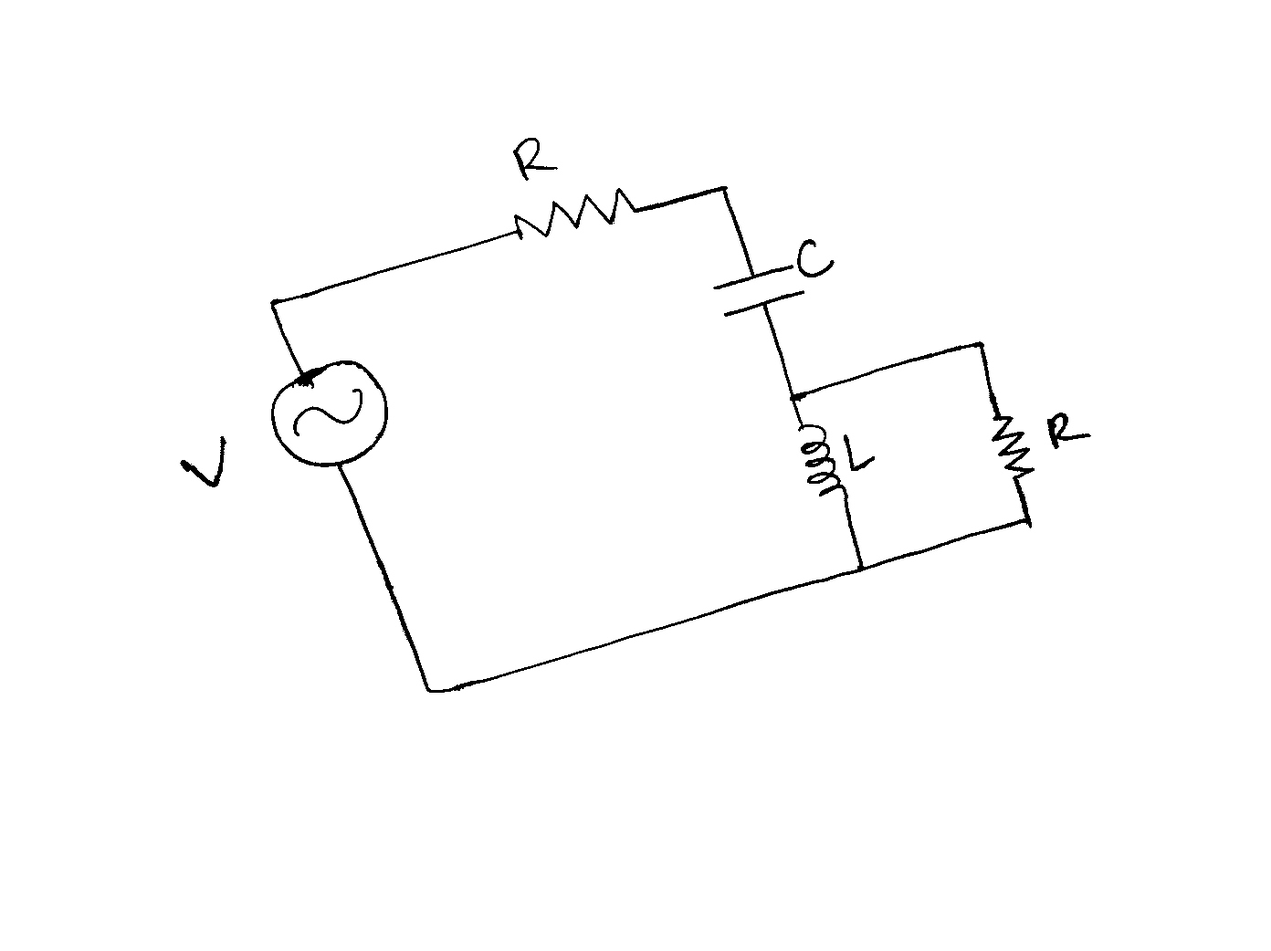capacitor.unpolarized: (710, 261, 808, 319)
inductor: (796, 423, 849, 499)
junction: (1016, 512, 1039, 529), (850, 560, 873, 577), (785, 388, 808, 404), (422, 680, 443, 697), (266, 294, 284, 313), (714, 183, 733, 198), (972, 339, 988, 351)
resistor: (506, 185, 646, 243), (989, 413, 1037, 483)
text: (178, 433, 229, 490), (512, 135, 562, 183), (1045, 411, 1094, 451), (795, 236, 835, 280), (842, 433, 878, 472)
voltage.ac: (268, 357, 392, 471)
